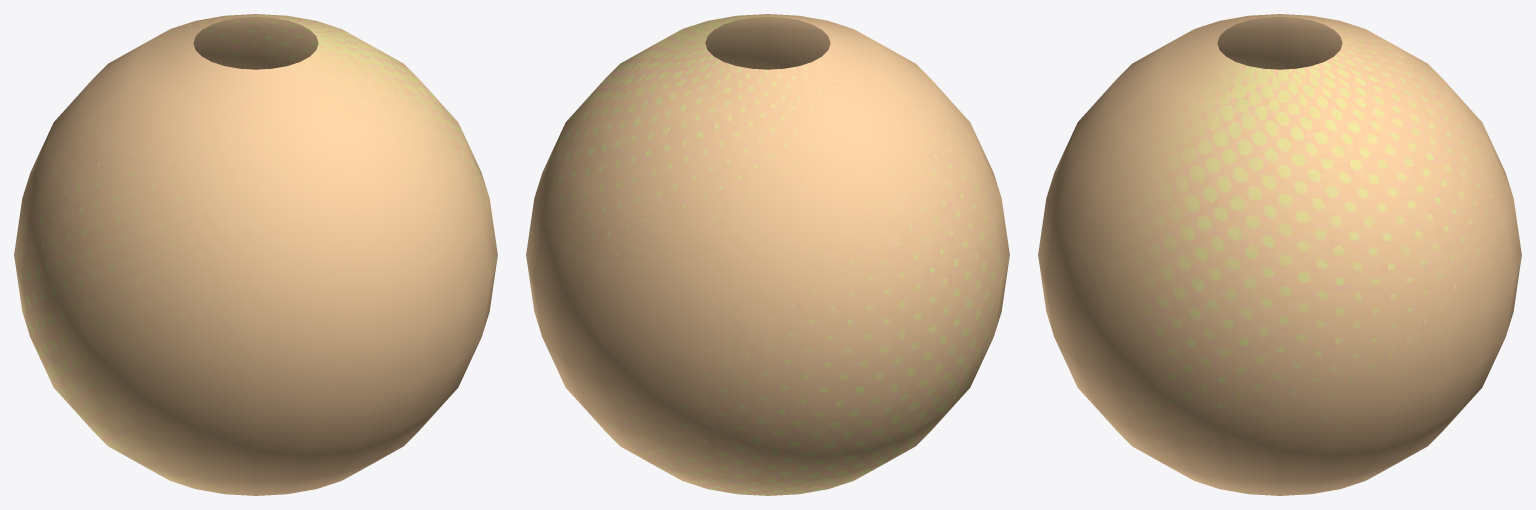
File: pref_sm_choujiangjiemian_mx01c_lv0.fbx
3 renders of one model, left to right at view 1: azimuth 30°, elevation 25°; view 2: azimuth 150°, elevation 25°; view 3: azimuth 270°, elevation 25°, orthographic.
Visible parts, largest first — view 1: pref_sm_choujiangjiemian_mx01c_lv0; view 2: pref_sm_choujiangjiemian_mx01c_lv0; view 3: pref_sm_choujiangjiemian_mx01c_lv0.
Boxes of the visible parts, bbox=[...] form: pref_sm_choujiangjiemian_mx01c_lv0: bbox=[14, 14, 497, 495]; pref_sm_choujiangjiemian_mx01c_lv0: bbox=[526, 14, 1009, 495]; pref_sm_choujiangjiemian_mx01c_lv0: bbox=[1038, 14, 1521, 495].
Size of the model in its own units: 1.94 by 1.87 by 1.94.
